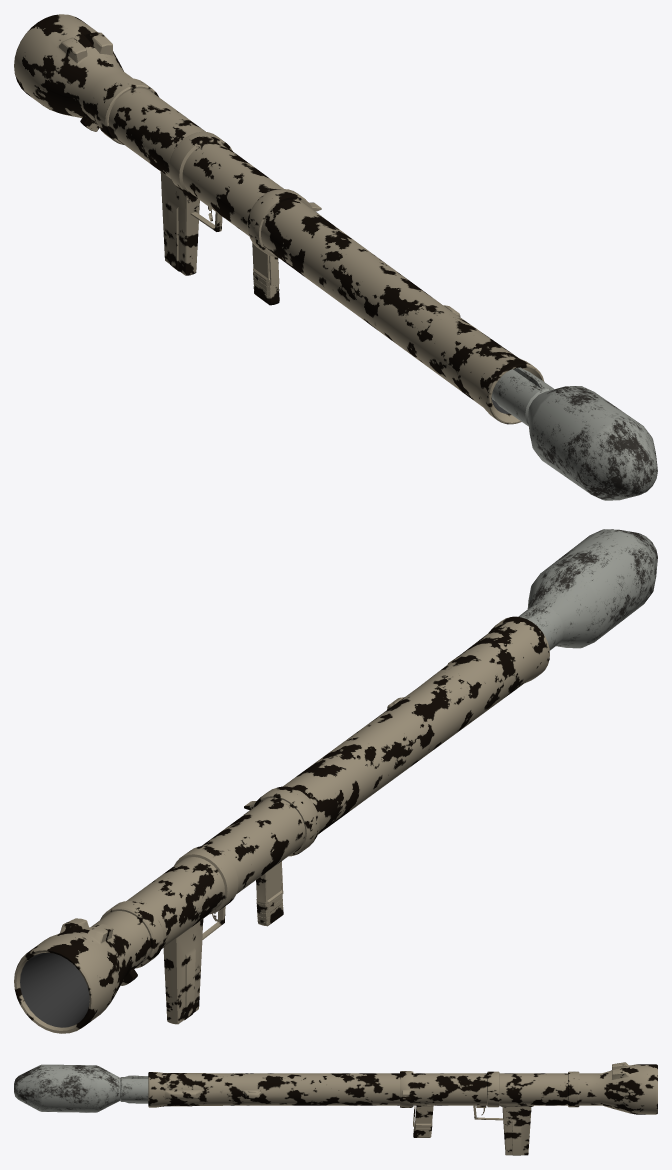
File: RPG.fbx
3 views of the same model, one above another, from view 1: azimuth 30°, elevation 25°; view 2: azimuth 150°, elevation 25°; view 3: azimuth 270°, elevation 25° (orthographic). The views are drawn at different scales.
Visible parts, largest first — view 1: ROCKET LAUNCHER 2, ROCKET 2; view 2: ROCKET LAUNCHER 2, ROCKET 2; view 3: ROCKET LAUNCHER 2, ROCKET 2.
Boxes of the visible parts, box(x1,y1,x2,y2) form: ROCKET LAUNCHER 2: box(14, 14, 544, 424); ROCKET 2: box(491, 367, 657, 500); ROCKET LAUNCHER 2: box(14, 616, 549, 1033); ROCKET 2: box(518, 529, 657, 650); ROCKET LAUNCHER 2: box(148, 1062, 657, 1155); ROCKET 2: box(14, 1064, 148, 1112).
Size of the model in its own units: 66.76 by 127 by 829.
2 materials, 2 textured.
